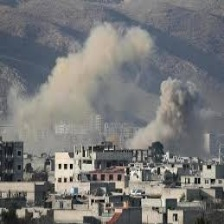smoke: (20, 41, 187, 144)
